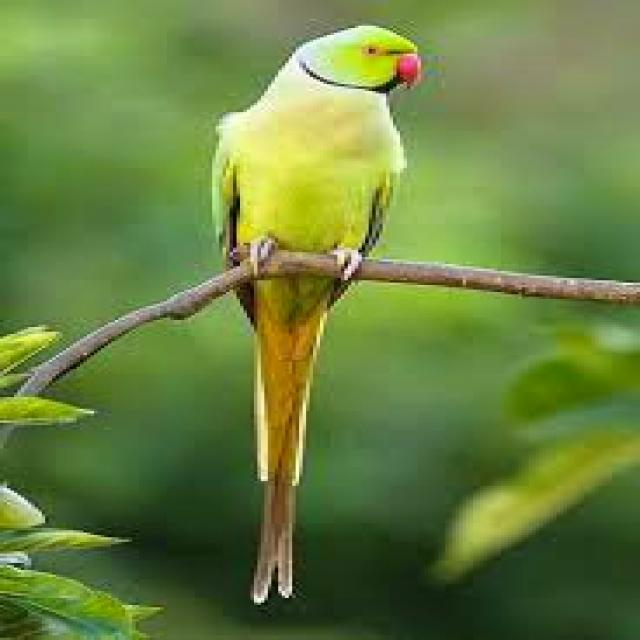parrot: (212, 26, 417, 600)
